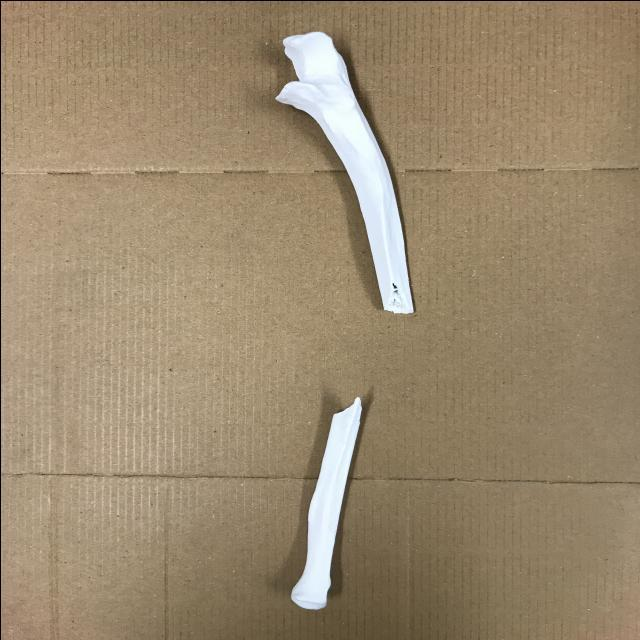bone: (272, 22, 422, 322), (281, 389, 374, 611)
